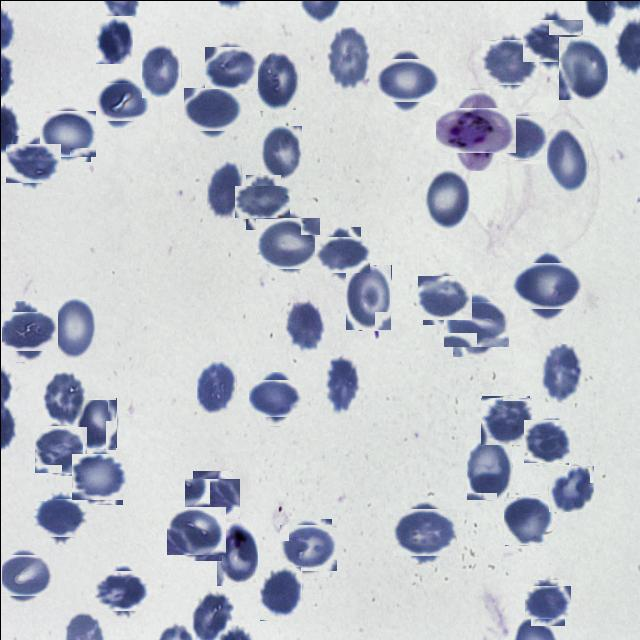red blood cell: (258, 214, 316, 272), (518, 256, 576, 314), (556, 36, 606, 99), (447, 296, 503, 352), (396, 504, 452, 560), (344, 264, 390, 329), (169, 503, 223, 557), (424, 167, 470, 230), (49, 296, 95, 358), (326, 26, 370, 90), (380, 52, 432, 106), (466, 439, 512, 500), (546, 128, 588, 193), (282, 521, 334, 573), (255, 50, 300, 110), (214, 521, 256, 585), (483, 36, 535, 87), (526, 15, 578, 66), (74, 449, 124, 502), (41, 108, 92, 158), (1, 305, 51, 356), (540, 343, 583, 402), (187, 84, 237, 134), (503, 494, 553, 544), (480, 396, 530, 446), (36, 424, 86, 474), (42, 370, 86, 426), (419, 272, 468, 321), (0, 550, 48, 600), (98, 566, 146, 614), (498, 113, 546, 161), (8, 138, 56, 186), (258, 125, 300, 179), (259, 566, 301, 620), (188, 474, 235, 522), (207, 43, 254, 91), (322, 355, 359, 414), (97, 78, 144, 124), (548, 465, 594, 512), (206, 159, 242, 219), (76, 397, 116, 450), (252, 375, 298, 421), (36, 494, 82, 540), (318, 231, 364, 277), (196, 359, 235, 413), (284, 298, 324, 350), (141, 44, 180, 97), (524, 418, 569, 463), (239, 180, 284, 223), (95, 15, 132, 63), (527, 582, 567, 622)
trophozoite: (444, 98, 507, 161)
